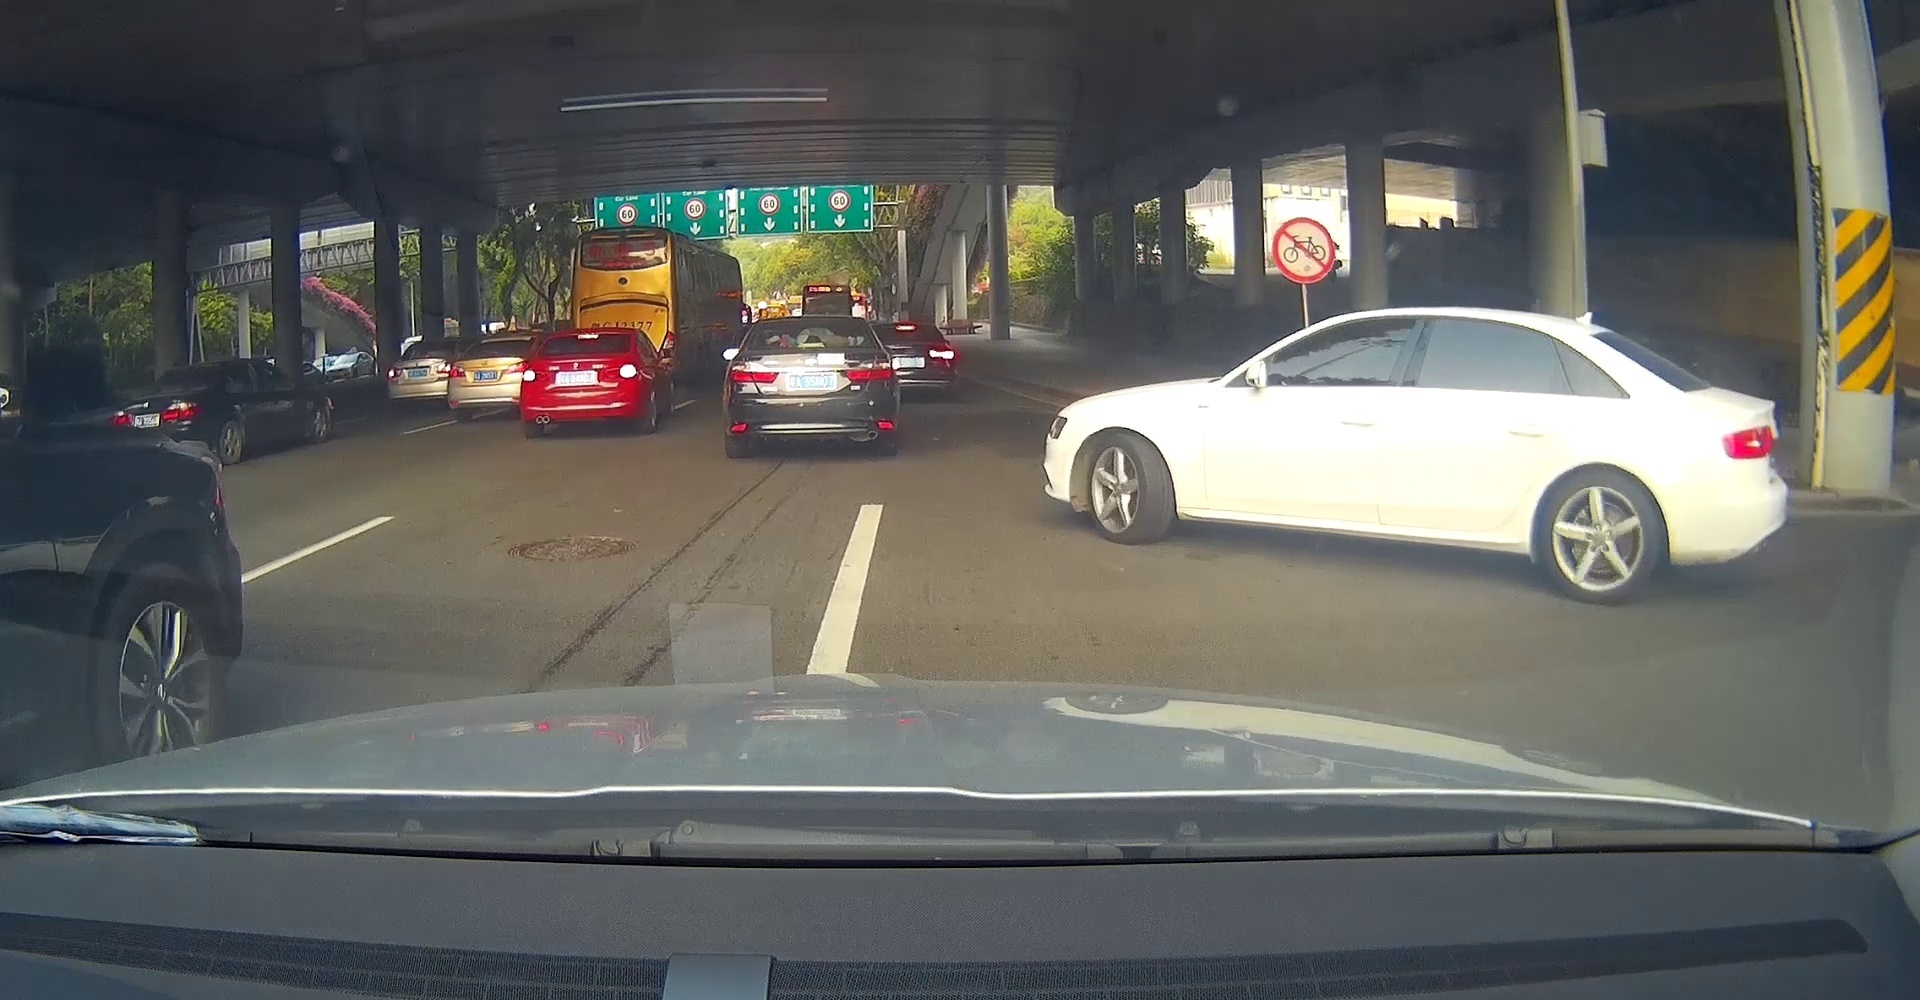L_light: (730, 368, 778, 385), (522, 367, 549, 382), (112, 411, 135, 426)
R_light: (161, 398, 202, 423), (844, 367, 893, 381), (602, 364, 636, 379)
T_light: (796, 341, 825, 348), (577, 334, 598, 339), (185, 368, 201, 371)
day-brake: (521, 327, 655, 438)
day-no: (723, 316, 902, 459), (112, 362, 221, 466)
